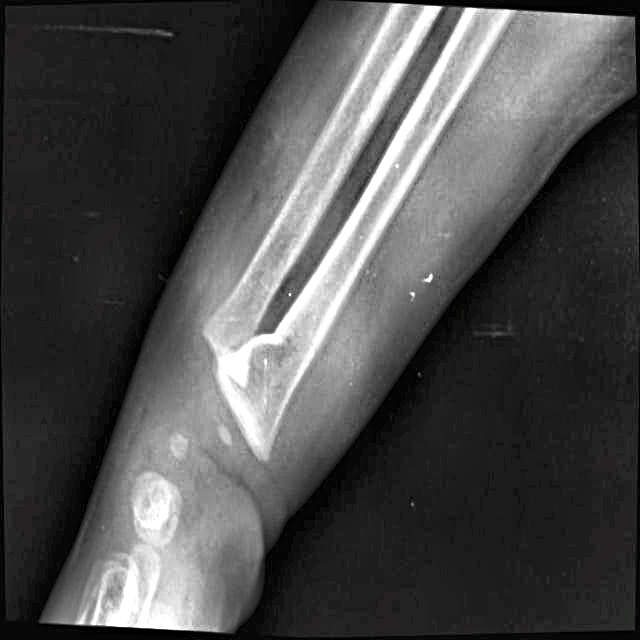Greenstick: (255, 299, 295, 359)
